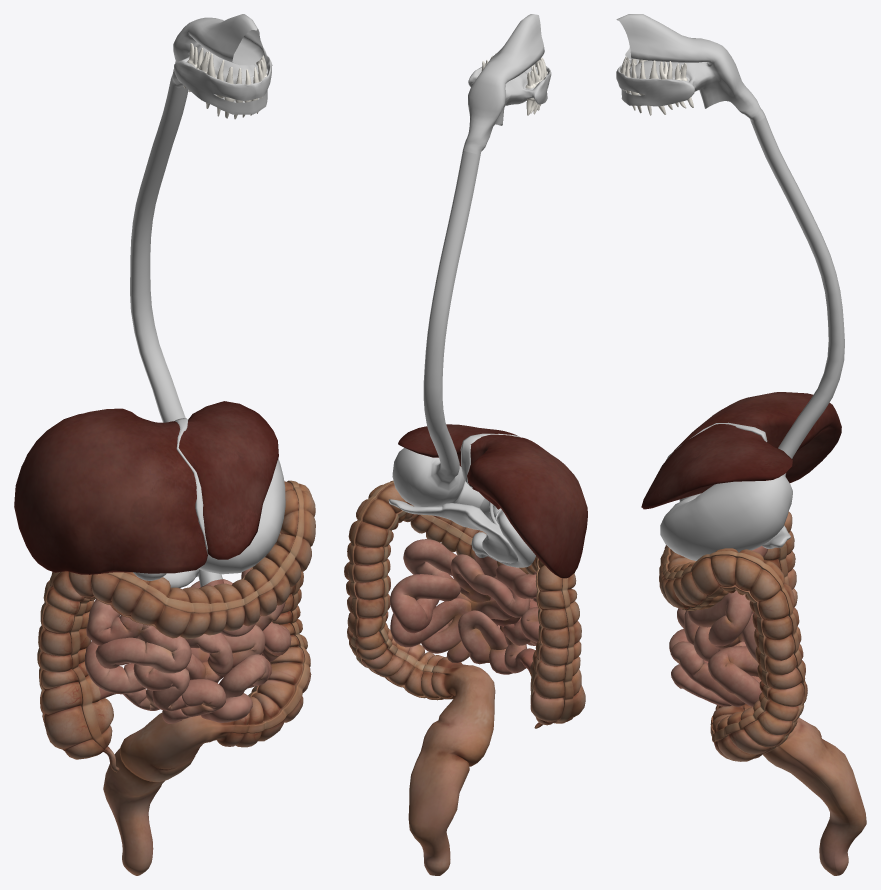
File: Digestive.gltf
3 renders of one model, left to right at view 1: azimuth 30°, elevation 25°; view 2: azimuth 150°, elevation 25°; view 3: azimuth 270°, elevation 25°, orthographic. The views are drawn at different scales.
Visible parts, largest first — view 1: Object_5, Object_3, Object_7, Object_8, Object_6, Object_12, Object_10; view 2: Object_3, Object_7, Object_5, Object_8, Object_6, Object_11, Object_10; view 3: Object_3, Object_8, Object_5, Object_6, Object_7, Object_12, Object_14.
Boxes of the visible parts, x1,y1,x2,y2 form: Object_5: (14, 401, 278, 574); Object_3: (37, 480, 315, 875); Object_7: (85, 567, 291, 723); Object_8: (130, 80, 285, 587); Object_6: (171, 14, 272, 114); Object_12: (206, 53, 267, 119); Object_10: (175, 418, 208, 554); Object_3: (344, 480, 585, 875); Object_7: (390, 539, 539, 674); Object_5: (398, 424, 587, 578); Object_8: (392, 150, 535, 567); Object_6: (463, 14, 551, 154); Object_11: (388, 499, 517, 563); Object_10: (460, 433, 519, 487); Object_3: (659, 511, 866, 875); Object_8: (660, 115, 844, 560); Object_5: (641, 392, 841, 509); Object_6: (616, 14, 764, 122); Object_7: (669, 546, 767, 706); Object_12: (620, 56, 665, 115); Object_14: (659, 61, 693, 109).
Size of the model in its own units: 22.64 by 75.09 by 19.84.
